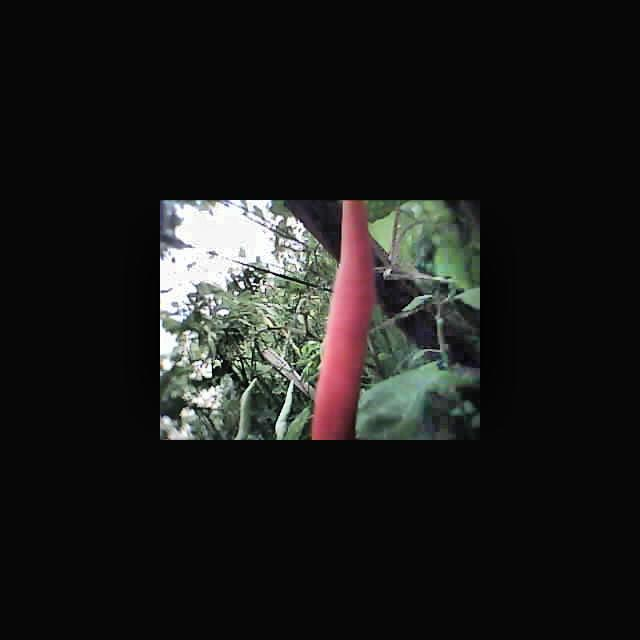Cabai: (319, 201, 375, 440)
